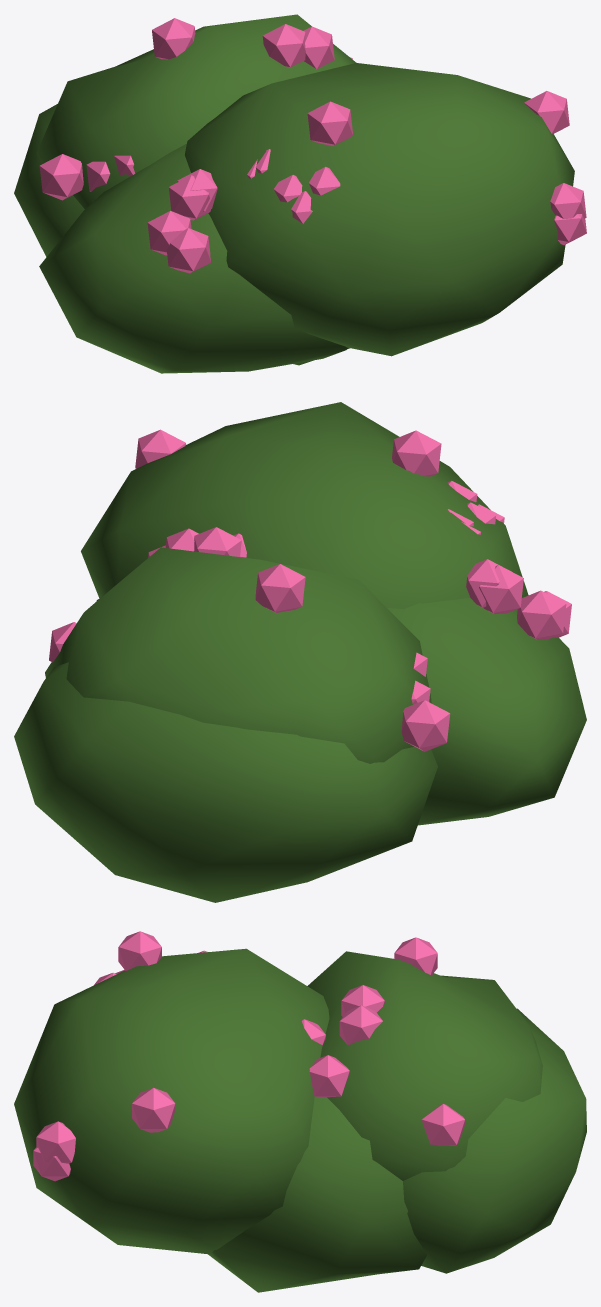
File: bushflower.glb
3 renders of one model, top to bottom at view 1: azimuth 30°, elevation 25°; view 2: azimuth 150°, elevation 25°; view 3: azimuth 270°, elevation 25°, orthographic. The views are drawn at different scales.
Parts seen in each view (by area): view 1: bush, fl; view 2: bush, fl; view 3: bush, fl.
Boxes of the visible parts, x1,y1,x2,y2 form: bush: [14, 14, 574, 373]; fl: [39, 18, 586, 273]; bush: [14, 402, 586, 902]; fl: [49, 429, 571, 751]; bush: [14, 948, 586, 1292]; fl: [33, 931, 464, 1181].
Bounding box in the file's own units: 1.92 × 1.3 × 2.15.
